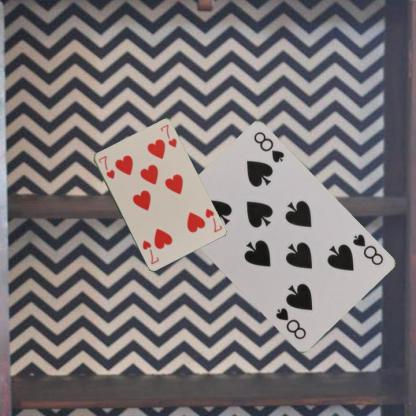7h: (202, 206, 223, 233), (96, 153, 116, 180)
8s: (350, 231, 384, 267)
